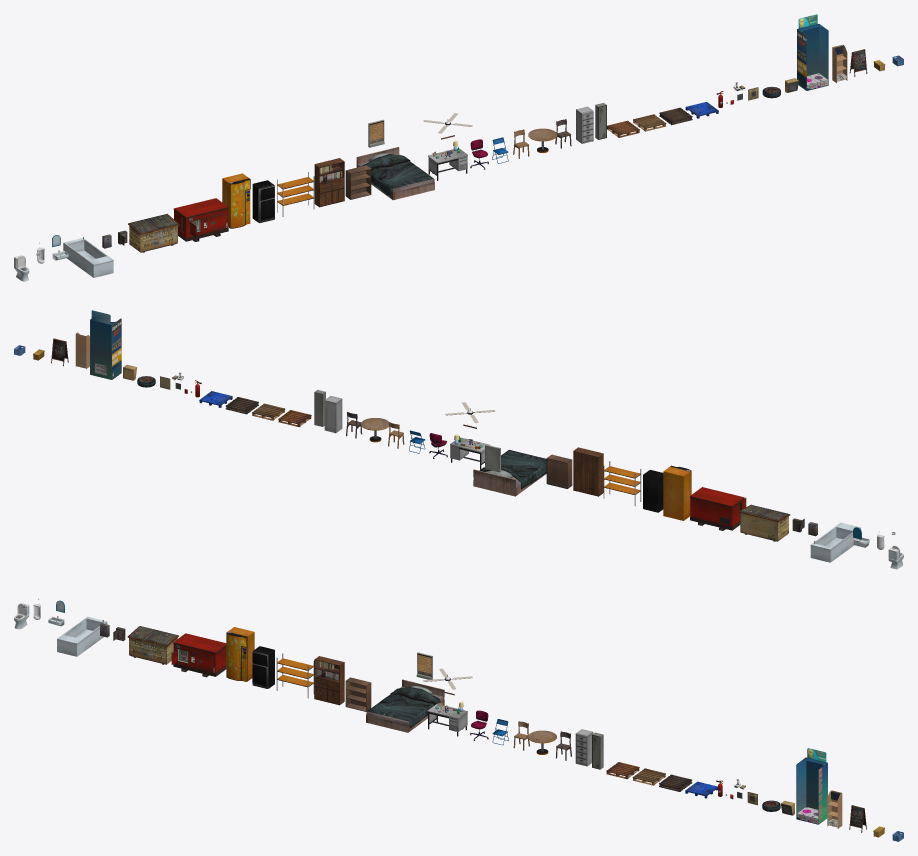
Rendered from retro_props.fbx.
The picture shows the model from 3 angles, top to bottom: view 1: azimuth 30°, elevation 25°; view 2: azimuth 150°, elevation 25°; view 3: azimuth 330°, elevation 25°; orthographic projection.
Visible parts, largest first — view 1: BeerStand.001, Generator, Blanket, VendingMachine, Bathtub, 00.Shelf, trash_container_body, Bed, shelf, 01.Shelf, Cabinet_A, 01.Desk; view 2: BeerStand.001, Generator, VendingMachine, 00.Shelf, Blanket, Bathtub, trash_container_body, Bed, shelf, FridgeBody, 01.Shelf, Cabinet_A (+1 smaller); view 3: BeerStand.001, Generator, Blanket, VendingMachine, Bathtub, 00.Shelf, trash_container_body, Bed, shelf, 01.Shelf, Cabinet_A, 01.Desk (+1 smaller).
Boxes of the visible parts, x1,y1,x2,y2 form: BeerStand.001: [797, 14, 828, 90]; Generator: [173, 198, 228, 241]; Blanket: [361, 154, 434, 197]; VendingMachine: [222, 173, 250, 228]; Bathtub: [63, 237, 113, 277]; 00.Shelf: [314, 158, 344, 207]; trash_container_body: [128, 213, 179, 252]; Bed: [356, 147, 434, 200]; shelf: [277, 172, 314, 216]; 01.Shelf: [345, 165, 371, 199]; Cabinet_A: [576, 106, 593, 143]; 01.Desk: [428, 148, 467, 180]; BeerStand.001: [90, 310, 121, 379]; Generator: [690, 487, 744, 530]; VendingMachine: [663, 465, 691, 520]; 00.Shelf: [573, 447, 603, 496]; Blanket: [479, 450, 546, 489]; Bathtub: [810, 522, 860, 562]; trash_container_body: [739, 505, 790, 541]; Bed: [473, 453, 546, 496]; shelf: [603, 461, 641, 505]; FridgeBody: [643, 470, 663, 512]; 01.Shelf: [546, 454, 572, 488]; Cabinet_A: [324, 396, 342, 433]; BeerStand.001: [796, 748, 827, 824]; Generator: [173, 633, 226, 677]; Blanket: [367, 687, 440, 728]; VendingMachine: [226, 627, 254, 681]; Bathtub: [57, 616, 107, 656]; 00.Shelf: [314, 656, 344, 705]; trash_container_body: [127, 626, 178, 664]; Bed: [366, 679, 444, 732]; shelf: [276, 653, 314, 698]; 01.Shelf: [345, 677, 371, 711]; Cabinet_A: [575, 729, 593, 766]; 01.Desk: [427, 704, 467, 736].
Size of the model in its own units: 16802 by 1183 by 1418.
Materials: 34 (33 with a texture image).
